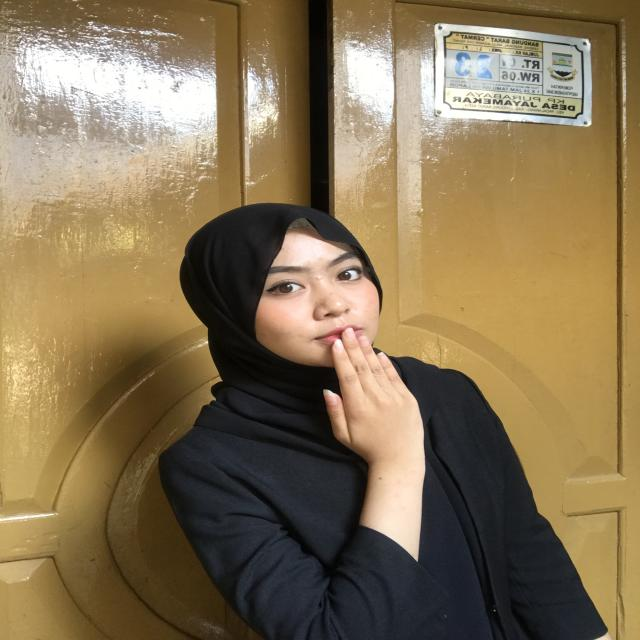ganteng: (292, 317, 456, 495)
